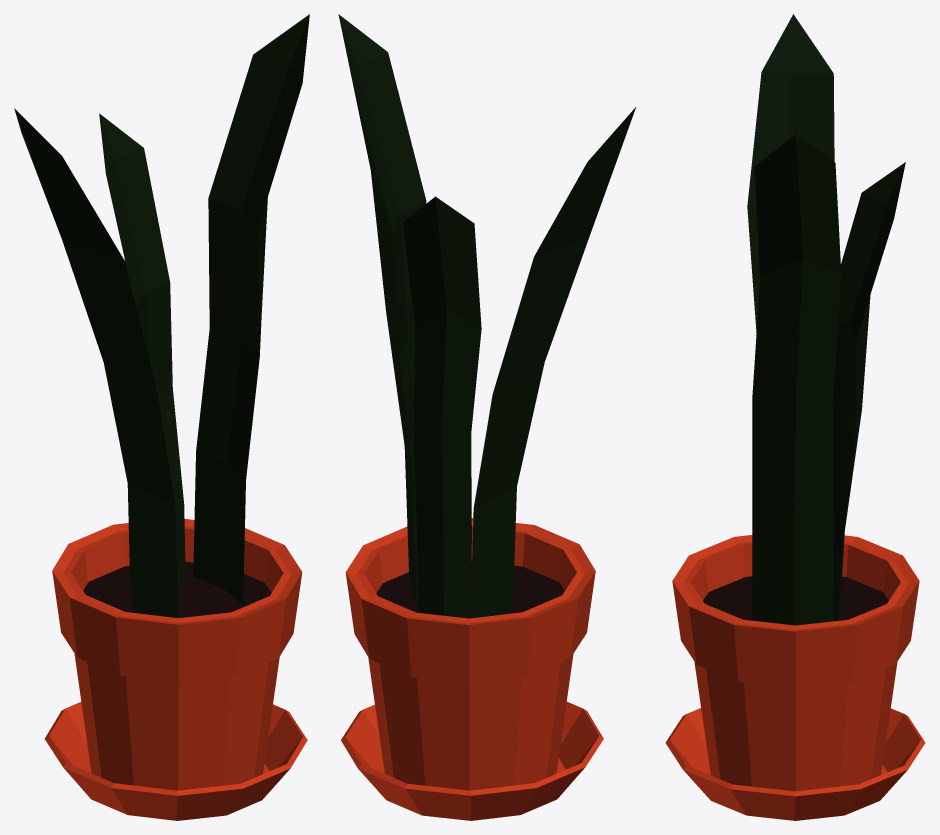
Rendered from krukvaxt.glb.
The picture shows the model from 3 angles, left to right: view 1: azimuth 30°, elevation 25°; view 2: azimuth 150°, elevation 25°; view 3: azimuth 270°, elevation 25°; orthographic projection. The views are drawn at different scales.
Parts seen in each view (by area): view 1: mesh_id7, mesh_id5, mesh_id6; view 2: mesh_id7, mesh_id5, mesh_id6; view 3: mesh_id7, mesh_id5, mesh_id6.
Part boxes in pixels (box(x1,y1,x2,y2)): mesh_id7: box(14, 14, 309, 617); mesh_id5: box(44, 519, 307, 820); mesh_id6: box(83, 561, 271, 618); mesh_id7: box(338, 14, 635, 618); mesh_id5: box(341, 518, 603, 820); mesh_id6: box(376, 561, 564, 618); mesh_id7: box(747, 14, 905, 625); mesh_id5: box(665, 535, 925, 820); mesh_id6: box(703, 576, 888, 620).
Bounding box in the file's own units: 0.2173 × 0.512 × 0.1701.
3 materials, 3 textured.
